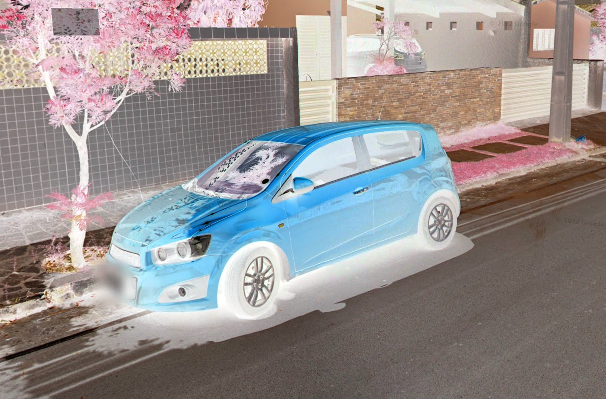car: (102, 94, 464, 323)
